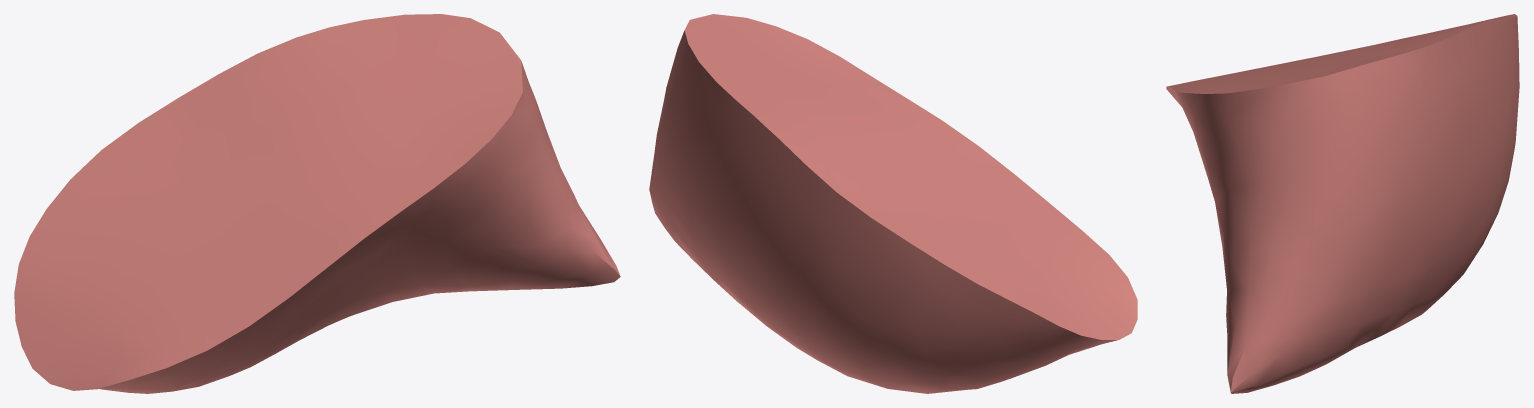
The model's file is fma49312-n_mm4002.glb.
3 renders of one model, left to right at view 1: azimuth 30°, elevation 25°; view 2: azimuth 150°, elevation 25°; view 3: azimuth 270°, elevation 25°, orthographic. The views are drawn at different scales.
Parts seen in each view (by area): view 1: FMA49312-N_MM4002; view 2: FMA49312-N_MM4002; view 3: FMA49312-N_MM4002.
Part boxes in pixels (x1,y1,x2,y2): FMA49312-N_MM4002: (14, 14, 620, 393); FMA49312-N_MM4002: (649, 14, 1137, 393); FMA49312-N_MM4002: (1166, 14, 1519, 393).
Bounding box in the file's own units: 0.0308 × 0.0166 × 0.015.
